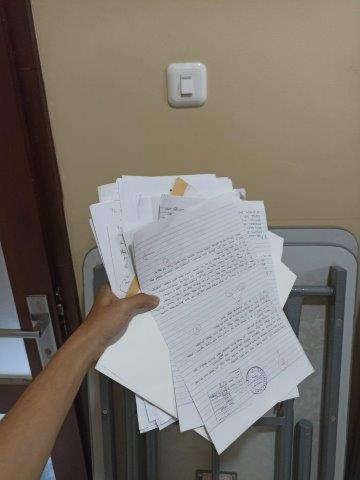kertas: (89, 173, 313, 452)
